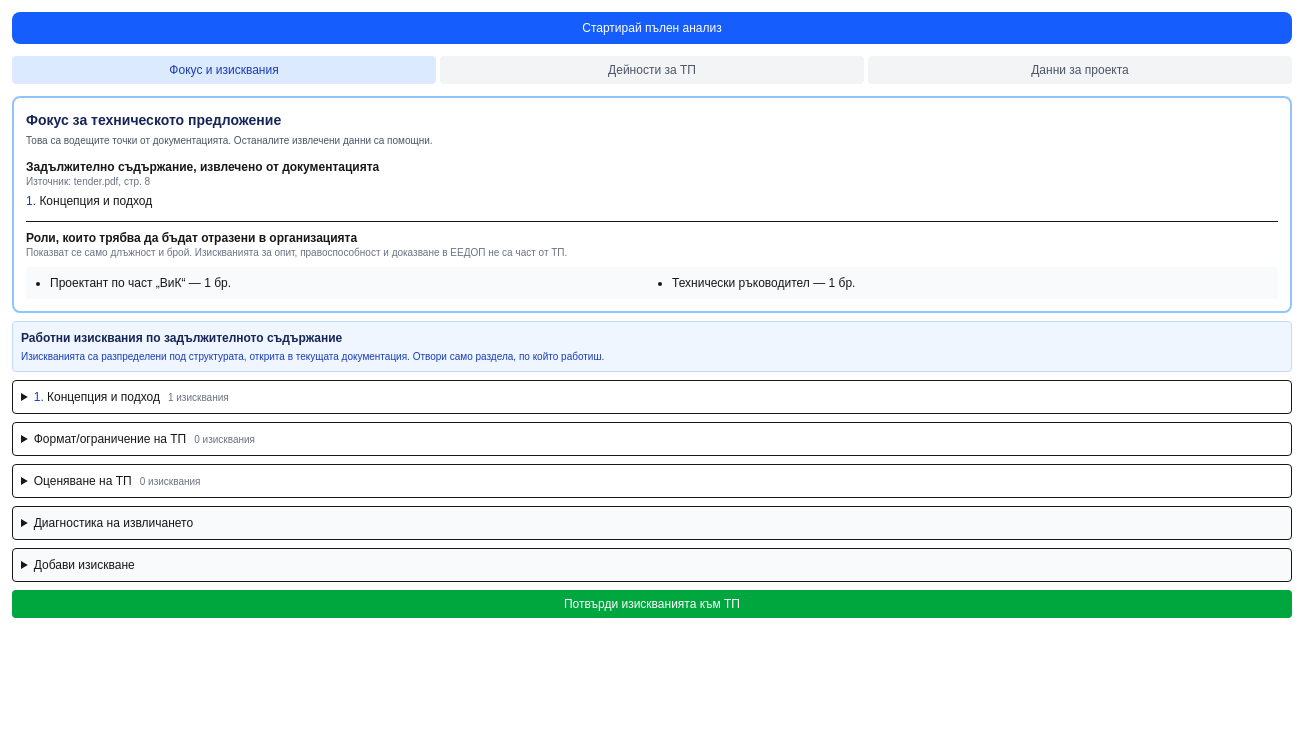
Test: UnderstandingPanel › keeps the draft and confirmation blocked after a failed save (K-12)
This screenshot has width=1304, height=732.
Click the tab "Дейности за ТП" at (652, 70), box [440,56,864,84]
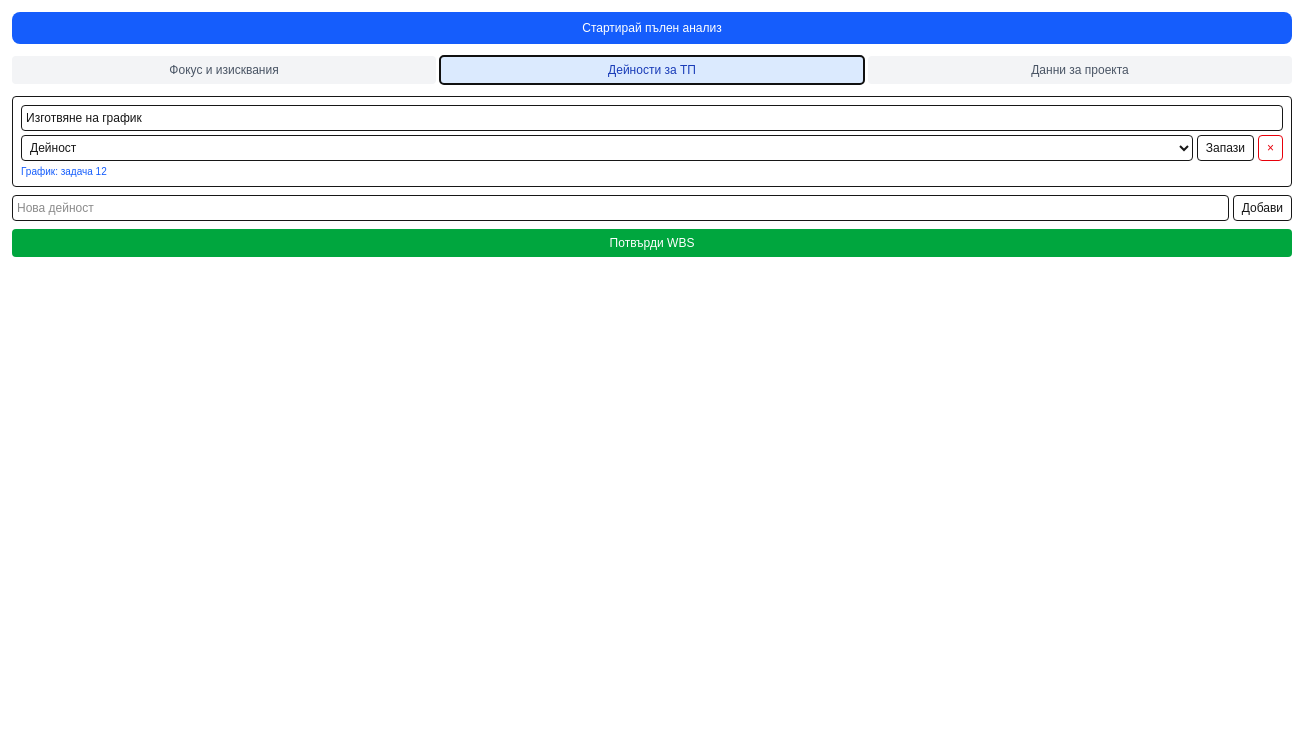
Replace the text in the field named "Наименование на дейност" with "Нов график" at (652, 118), box [21,105,1283,131]
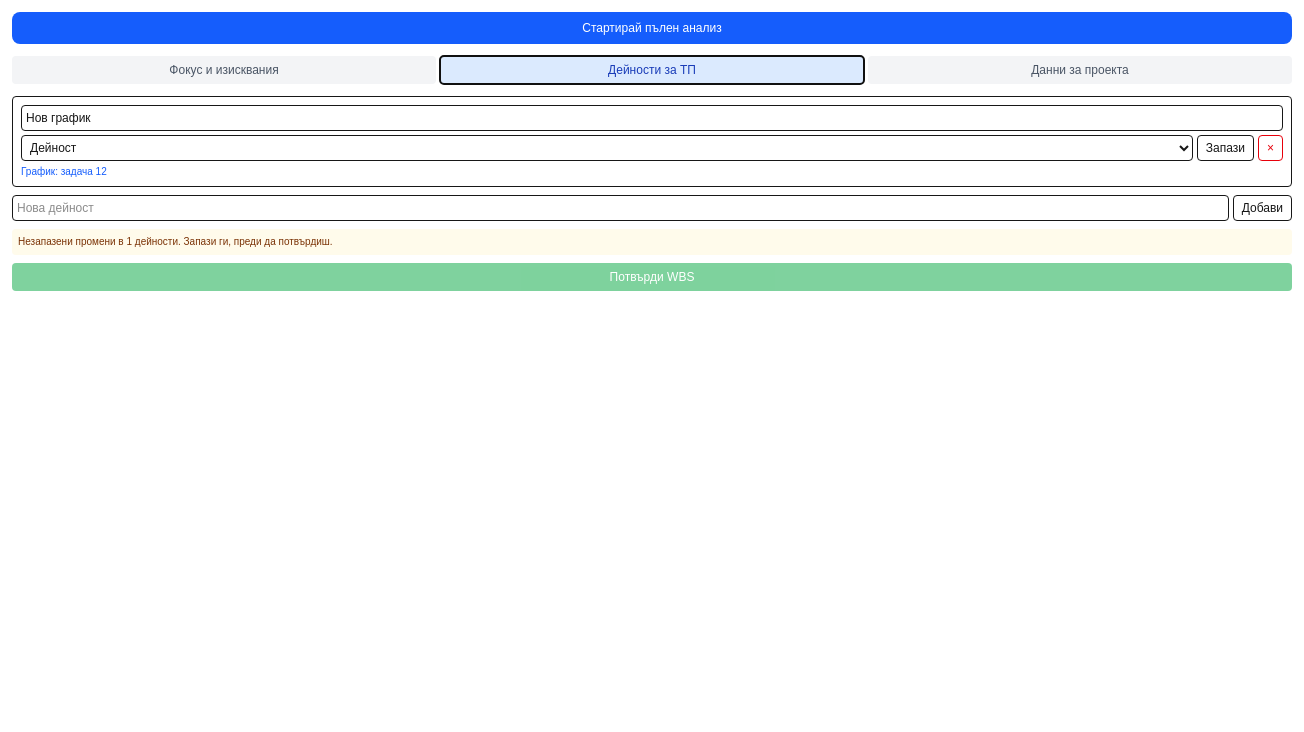
Click the button "Запази" at (1225, 148), box [1197,135,1254,161]
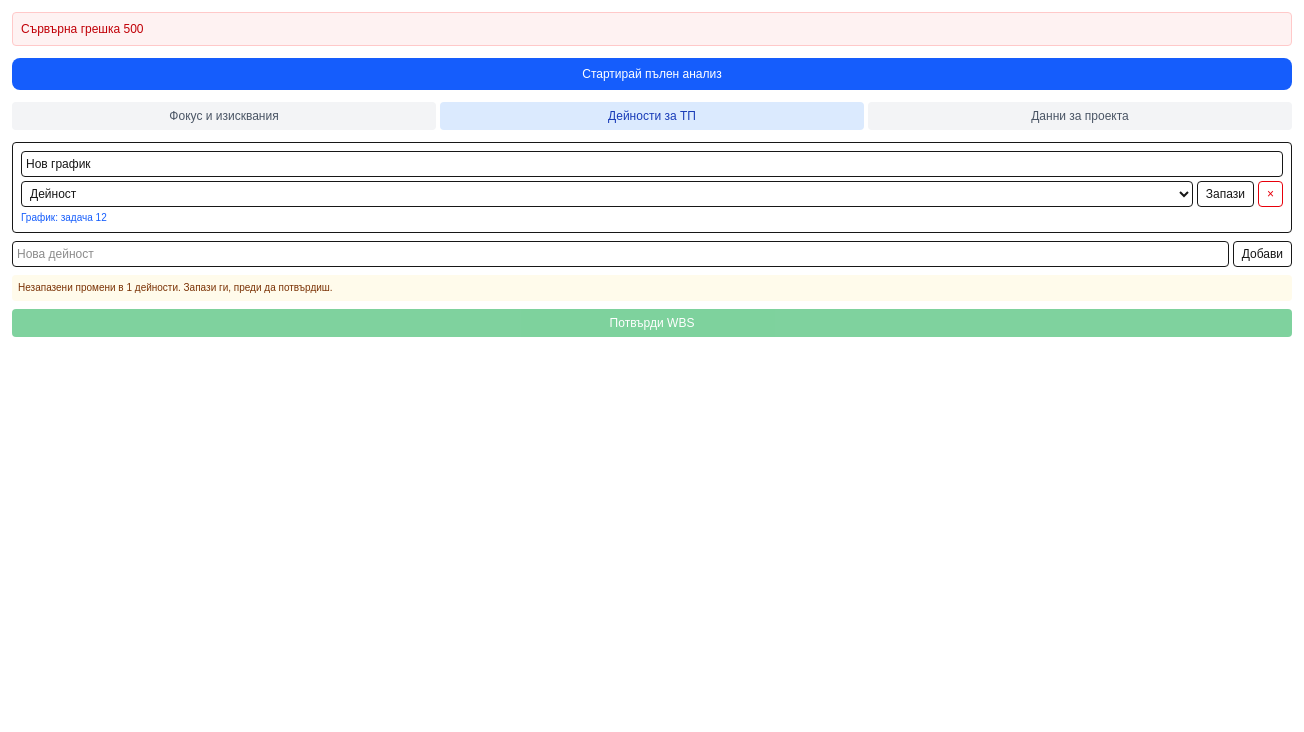
Now the button with test id "confirm-wbs" is disabled, box [12,309,1292,337]
Now the text "Сървърна грешка 500" is shown, box [12,12,1292,46]
